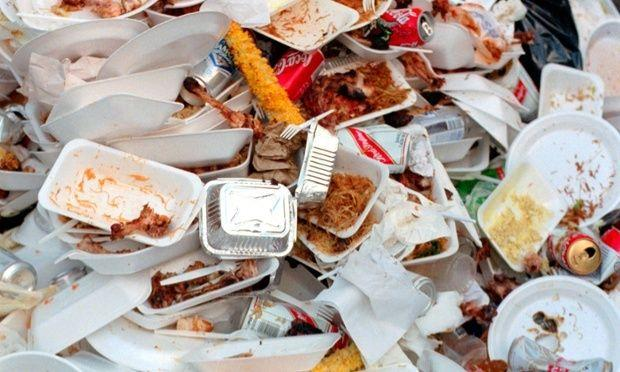PS: (38, 138, 206, 246), (30, 270, 152, 355), (50, 210, 206, 276), (95, 9, 233, 82), (421, 72, 530, 154), (10, 17, 152, 79), (38, 93, 181, 146), (242, 0, 361, 54), (108, 127, 255, 168), (538, 62, 606, 118), (267, 285, 337, 326), (159, 260, 244, 285), (280, 108, 337, 141)
